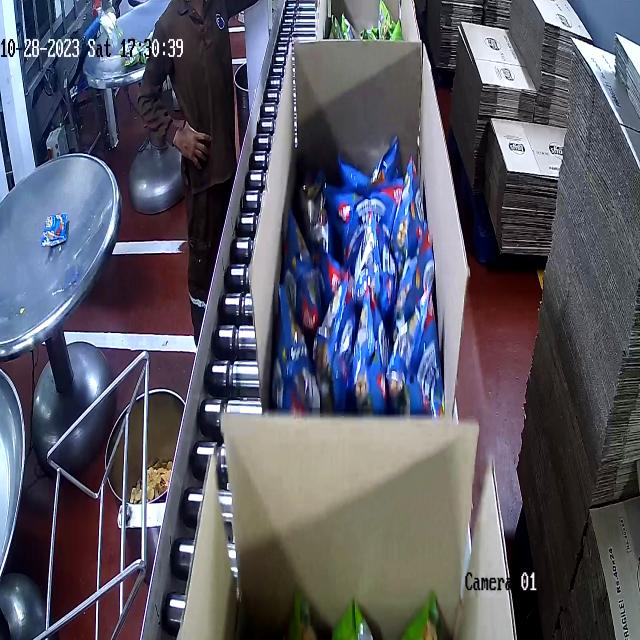PAPRIKA: (272, 163, 435, 401)
